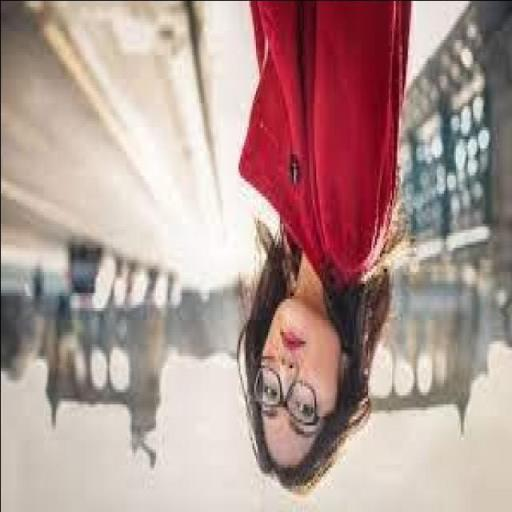glasses: (240, 351, 327, 453)
